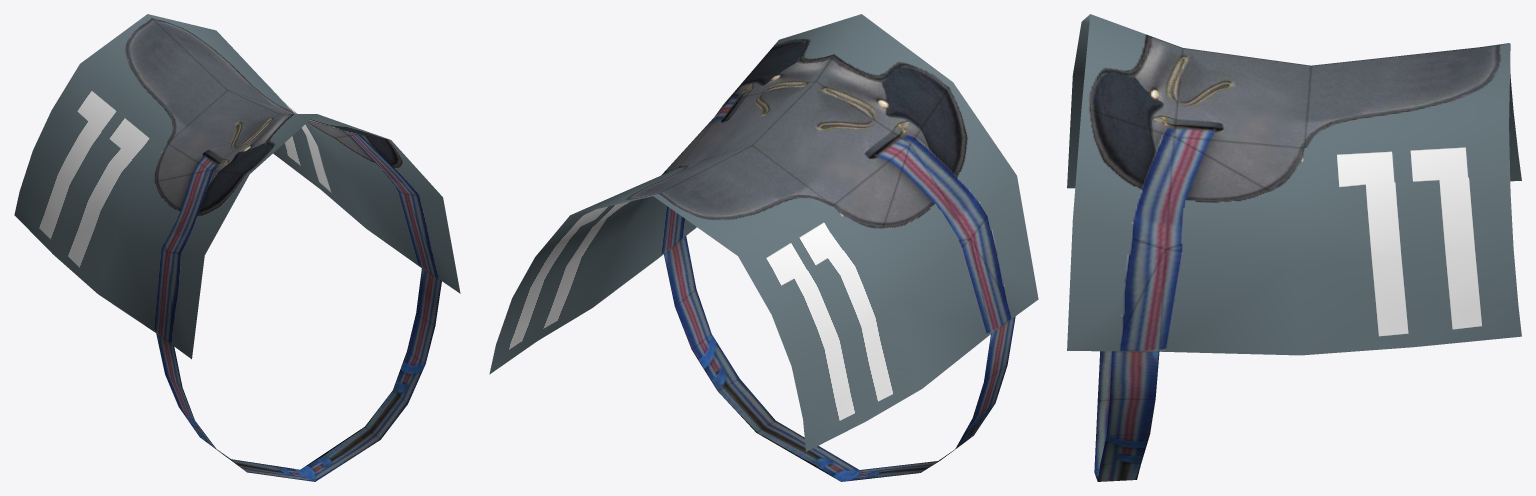
The model's file is horse seat.fbx.
3 renders of one model, left to right at view 1: azimuth 30°, elevation 25°; view 2: azimuth 150°, elevation 25°; view 3: azimuth 270°, elevation 25°, orthographic. The views are drawn at different scales.
Parts seen in each view (by area): view 1: saddle; view 2: saddle; view 3: saddle.
Boxes of the visible parts, left/top/right/bottom form: saddle: left=14, top=14, right=460, bottom=481; saddle: left=489, top=14, right=1038, bottom=481; saddle: left=1067, top=14, right=1521, bottom=481.
Bounding box in the file's own units: 60.94 × 80.05 × 72.
